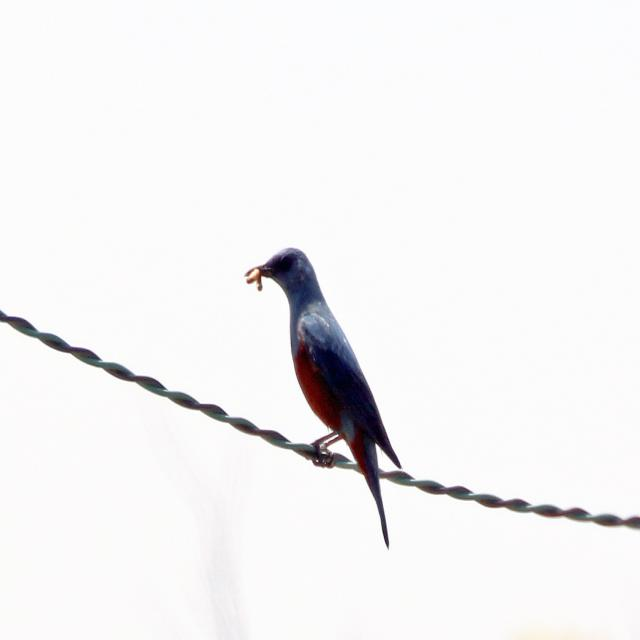bird: (222, 251, 444, 521)
